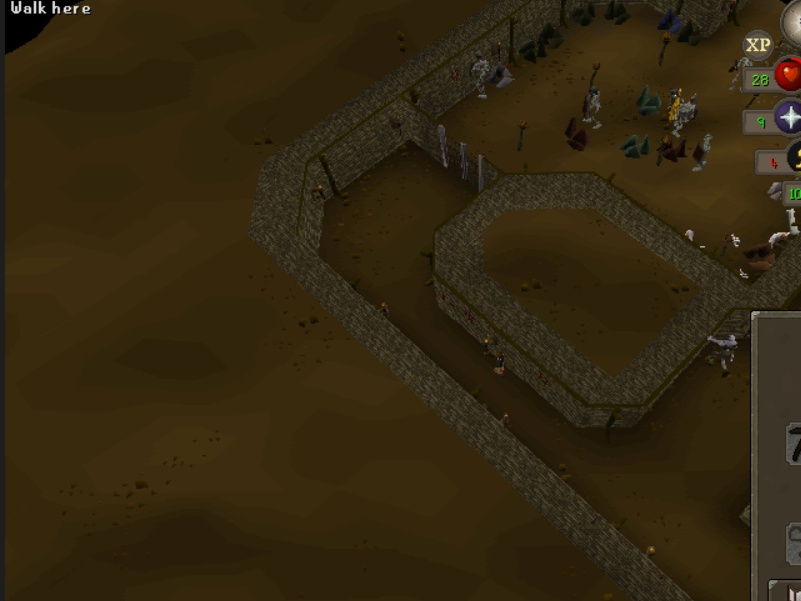adamant: (617, 130, 652, 161), (633, 83, 668, 114)
coal: (517, 38, 551, 65), (533, 23, 567, 50), (677, 20, 711, 47), (564, 1, 598, 27), (601, 1, 635, 27)
iron: (564, 115, 591, 154), (657, 132, 689, 164)
mithril: (653, 6, 682, 39)
tin: (486, 60, 521, 91)
